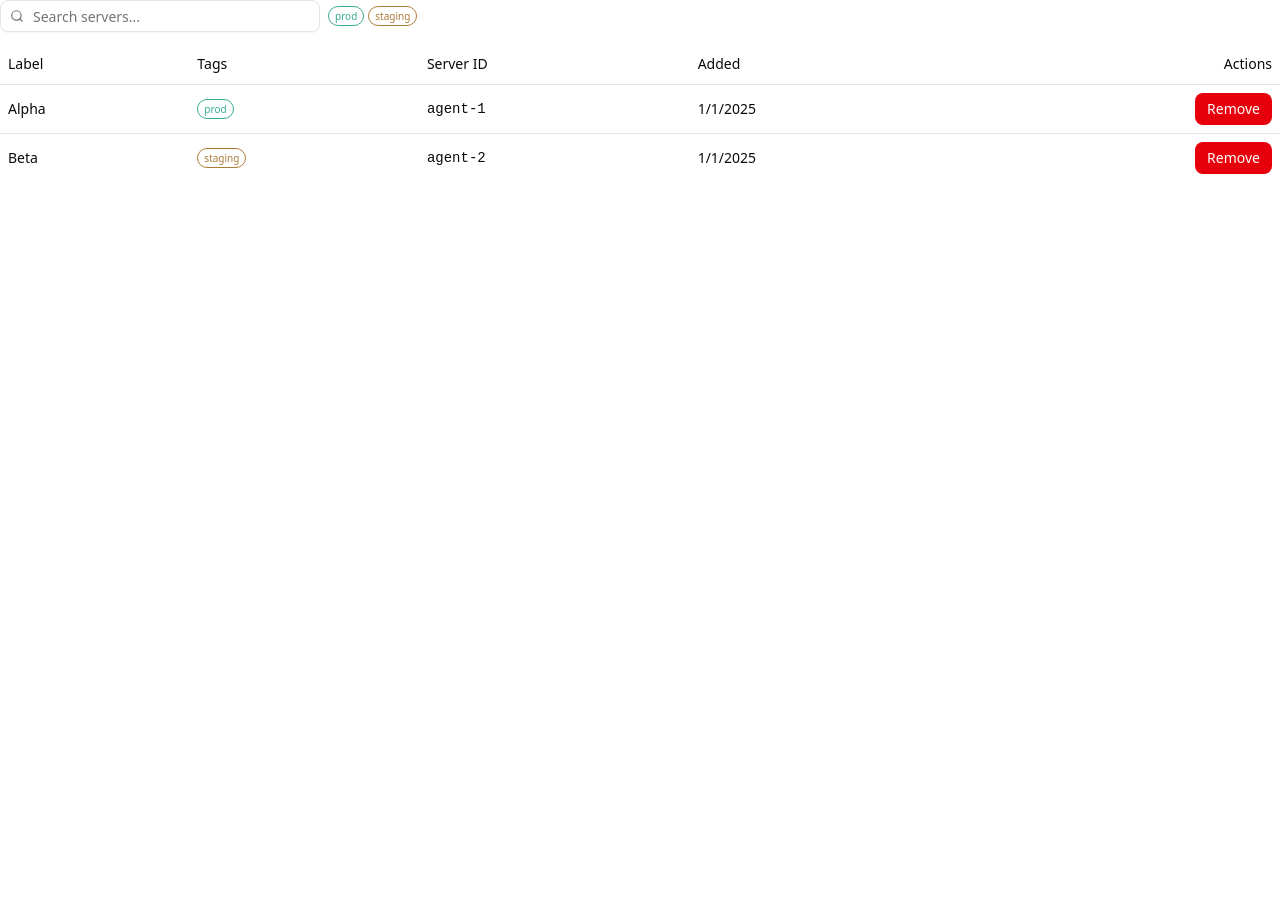
Scenario: ServerList › opens confirmation dialog on Remove click
Click the button "Remove" in the row of "agent-1". click: point(1234, 108)
box: left=1195, top=92, right=1272, bottom=124
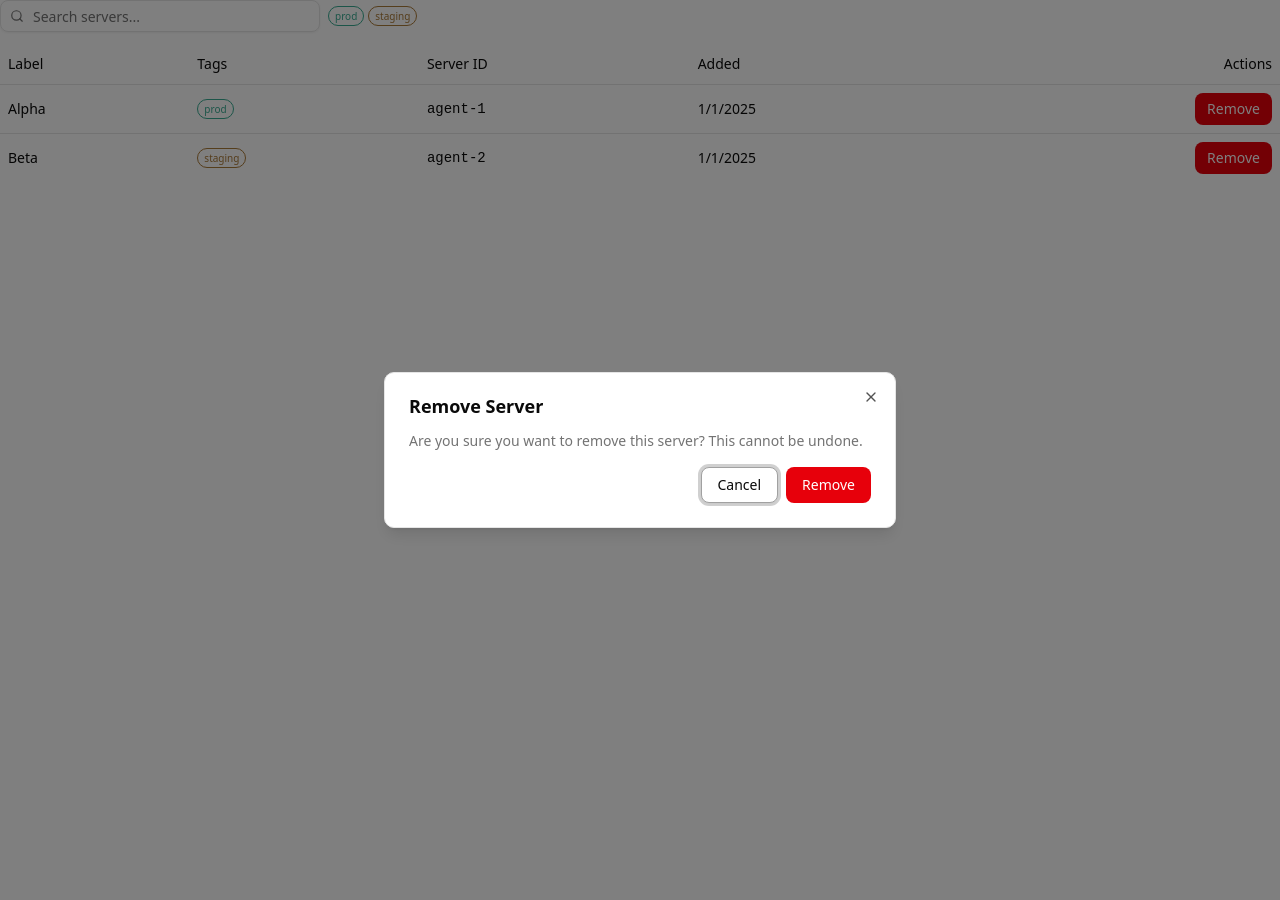
Now the heading "Remove Server" is shown, box left=409, top=394, right=543, bottom=418
Now the text "Are you sure" is shown, box left=409, top=431, right=863, bottom=450
